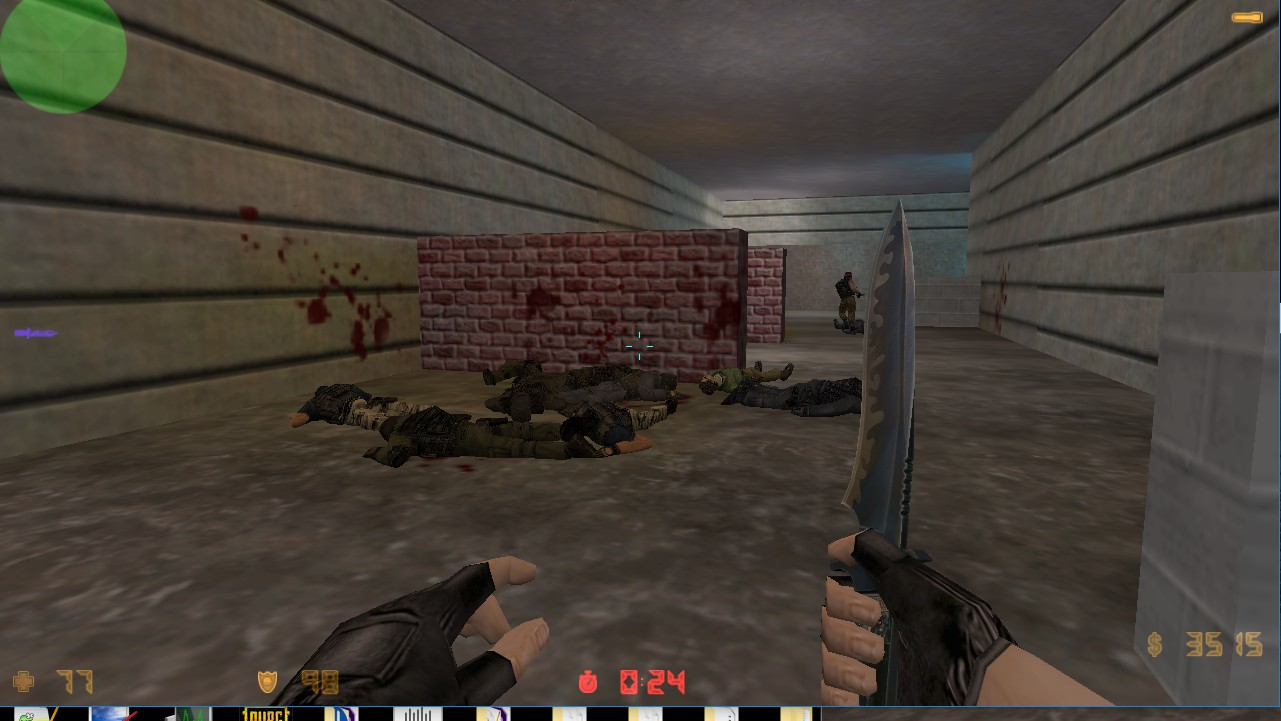person: (832, 268, 862, 331)
